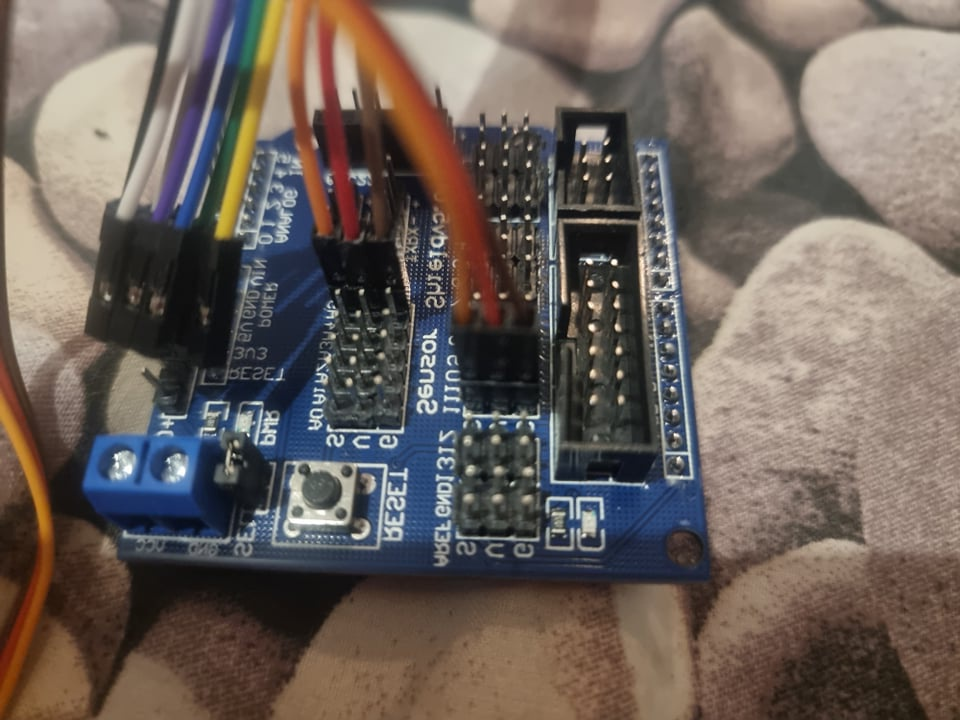5V EXPANSION: (80, 100, 712, 584)
